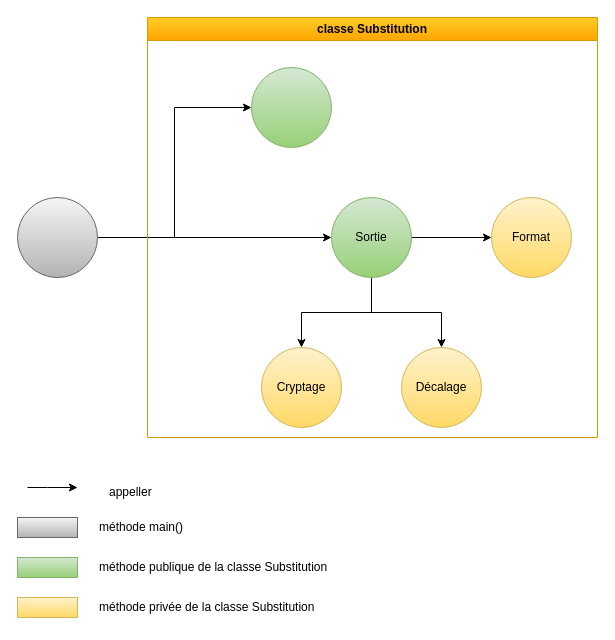
Image size: 615x640. Some labels were removed from this diagram. Each missing label, with the box of its shape:
main: (16, 196, 98, 278)
Saisie: (250, 66, 332, 148)
